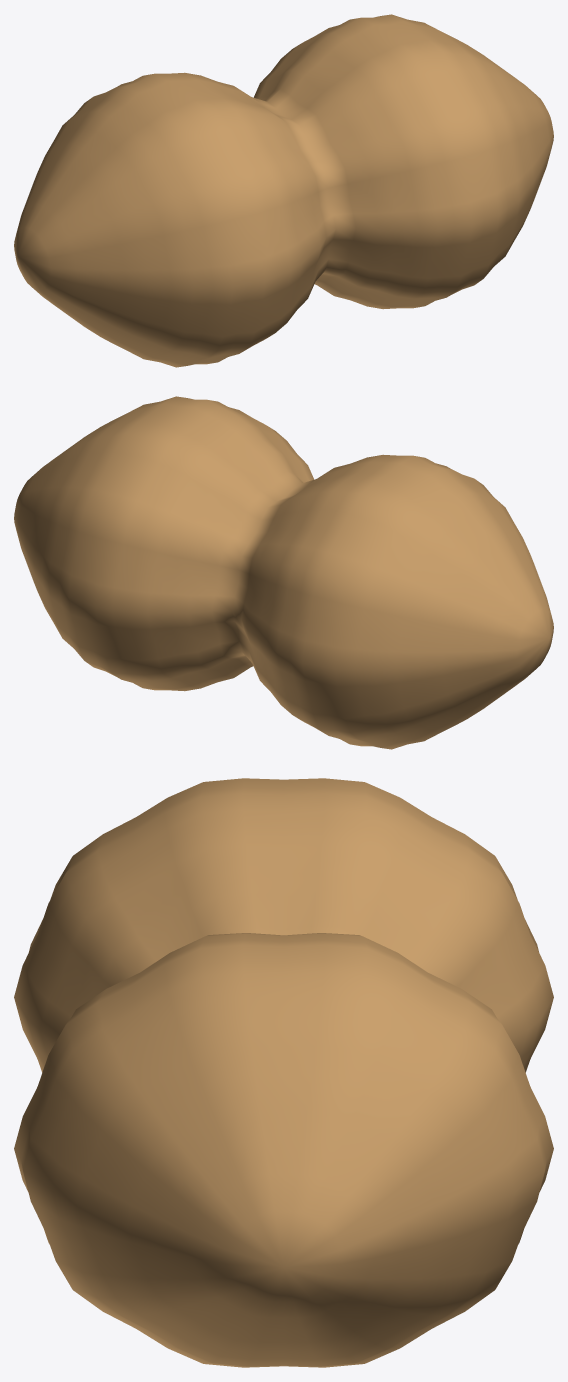
The model's file is NEW_RECOVERY_014_LOD0.glb.
3 renders of one model, top to bottom at view 1: azimuth 30°, elevation 25°; view 2: azimuth 150°, elevation 25°; view 3: azimuth 270°, elevation 25°, orthographic. The views are drawn at different scales.
Visible parts, largest first — view 1: Whole unshelled peanut; view 2: Whole unshelled peanut; view 3: Whole unshelled peanut.
Part boxes in pixels (x1,y1,x2,y2): Whole unshelled peanut: (14, 14, 553, 367); Whole unshelled peanut: (14, 396, 553, 749); Whole unshelled peanut: (14, 778, 553, 1367).
Bounding box in the file's own units: 2.7 × 1.27 × 1.49.
